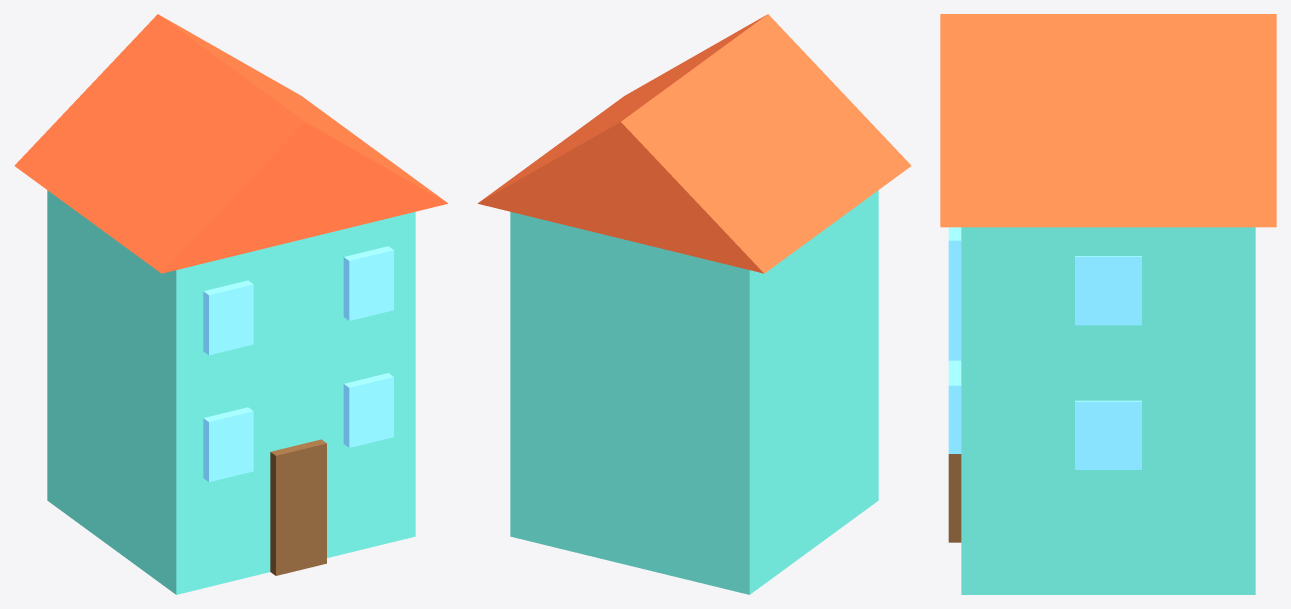
The model's file is residential_2.glb.
3 views of the same model, side by side, from view 1: azimuth 30°, elevation 25°; view 2: azimuth 150°, elevation 25°; view 3: azimuth 270°, elevation 25° (orthographic). The views are drawn at different scales.
Parts seen in each view (by area): view 1: residential_2; view 2: residential_2; view 3: residential_2.
Part boxes in pixels (x1=…): residential_2: x1=14, y1=14, x2=447, y2=594; residential_2: x1=478, y1=14, x2=911, y2=594; residential_2: x1=940, y1=14, x2=1276, y2=594.
Bounding box in the file's own units: 0.9 × 1.35 × 0.8.
